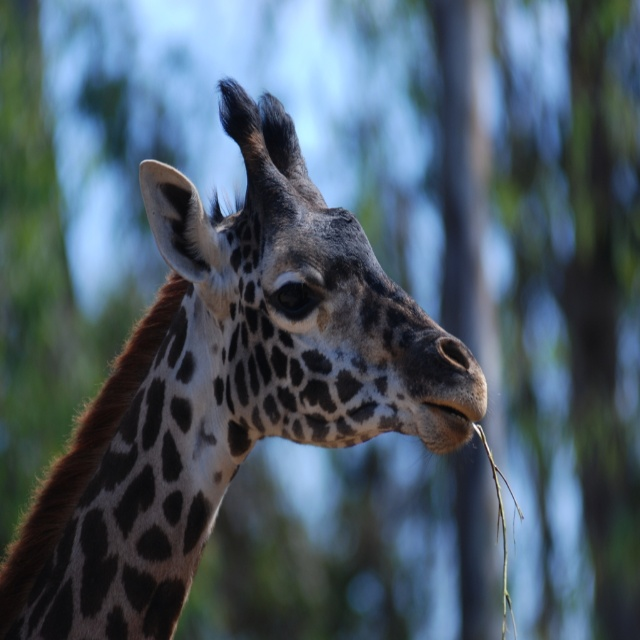Giraffe: (0, 77, 487, 639)
